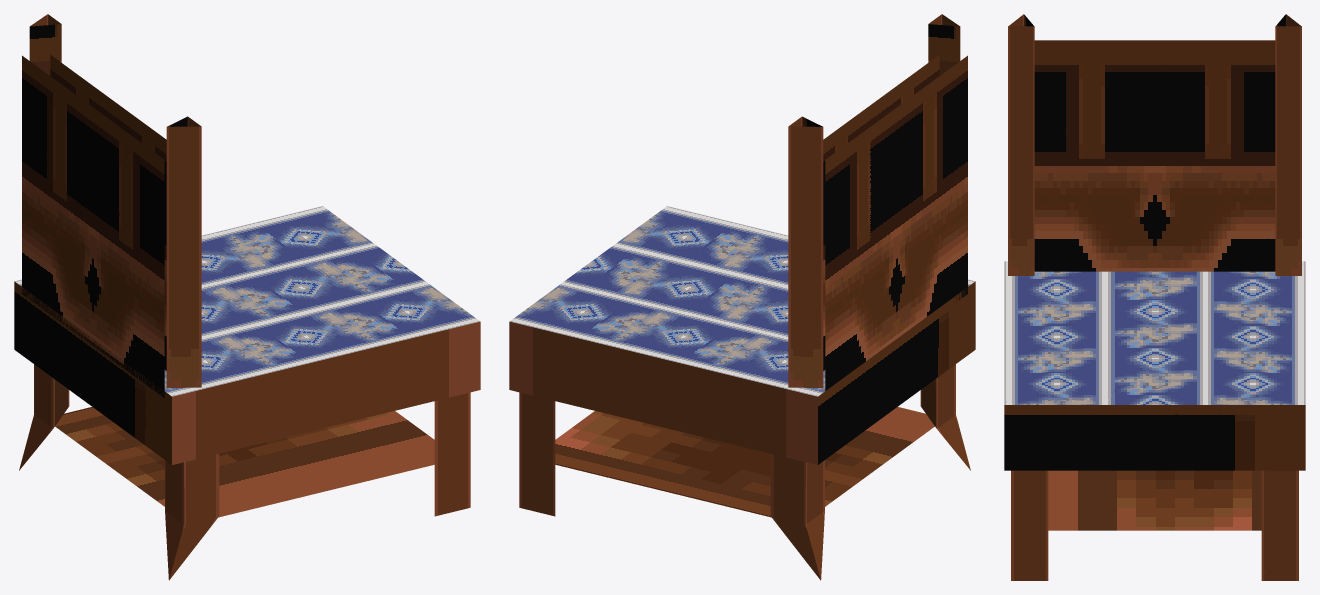
3 views of the same model, side by side, from view 1: azimuth 30°, elevation 25°; view 2: azimuth 150°, elevation 25°; view 3: azimuth 270°, elevation 25° (orthographic). The views are drawn at different scales.
Parts seen in each view (by area): view 1: 3572kg_13_isu; view 2: 3572kg_13_isu; view 3: 3572kg_13_isu.
Boxes of the visible parts, bbox=[...] form: 3572kg_13_isu: bbox=[14, 14, 480, 580]; 3572kg_13_isu: bbox=[509, 14, 975, 580]; 3572kg_13_isu: bbox=[1004, 14, 1305, 580].
Size of the model in its own units: 0.7585 by 1.05 by 0.6719.
3 materials, 3 textured.
